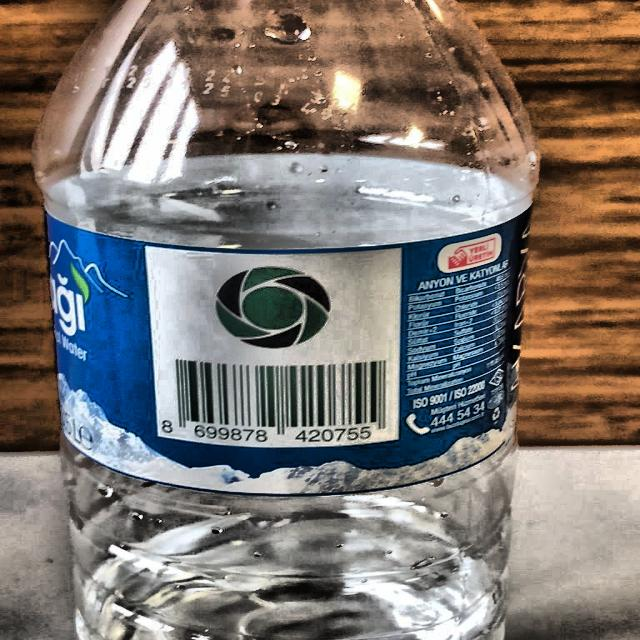plastic: (35, 0, 535, 640)
